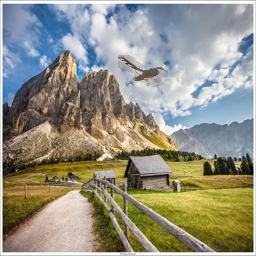Cuckoo: (118, 55, 168, 87)
